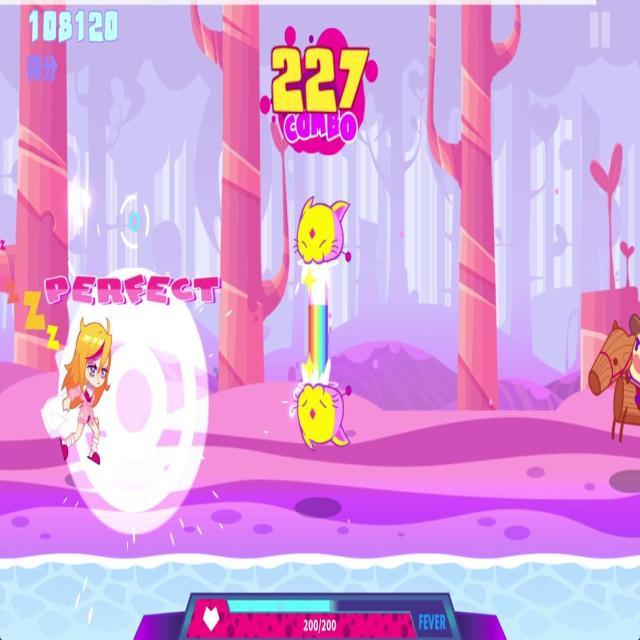qiu: (587, 306, 640, 454)
shuangya: (287, 187, 359, 460)
